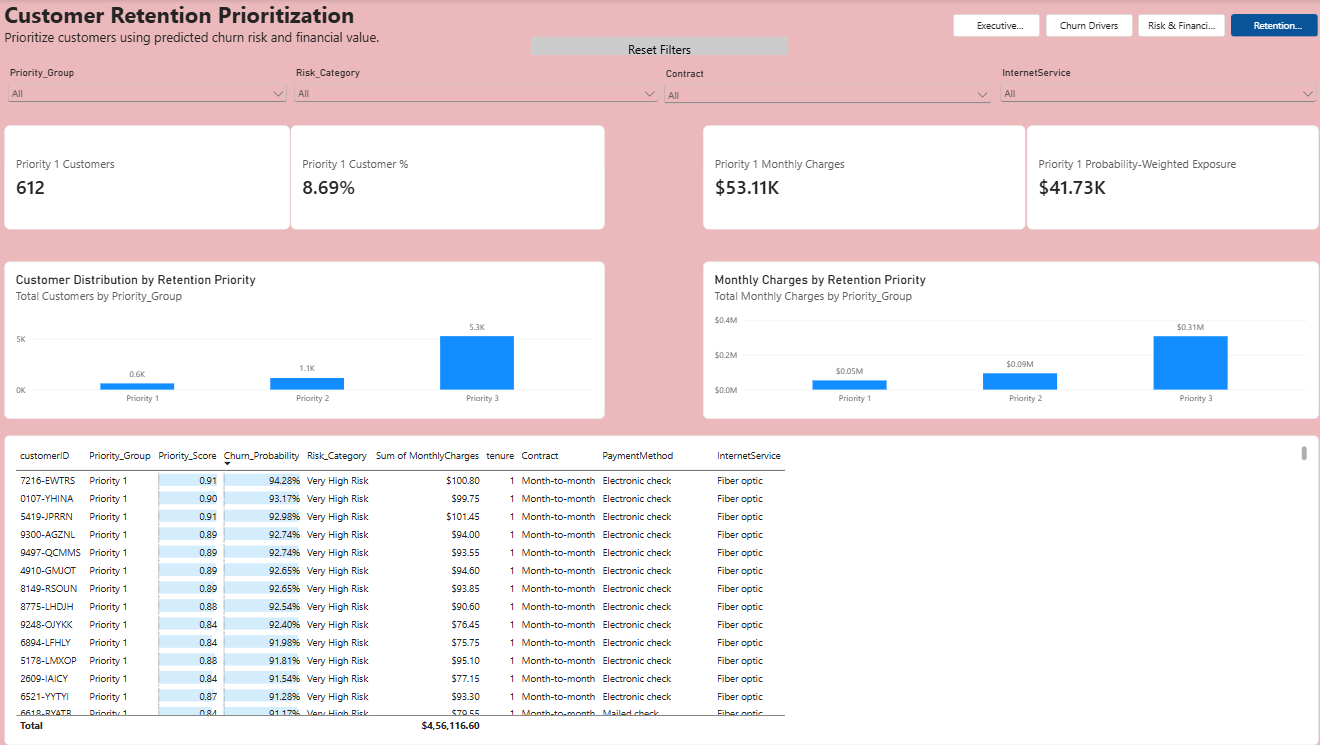

This screenshot's page, from the dashboard's own definition file:
{"tool":"powerbi","page":{"name":"Retention Prioritization","canvas":[1920,1080],"ordinal":3},"visuals":[{"type":"textbox","box":[9.3,0,1909.8,196.1],"z":0},{"type":"cardVisual","fields":{"Data":["Customer_Churn.Priority 1 Customers"]},"box":[9.5,183.4,414.2,151.8],"z":1000},{"type":"cardVisual","fields":{"Data":["Customer_Churn.Priority 1 Customer %"]},"box":[423.7,183.4,455.3,151.8],"z":2000},{"type":"cardVisual","fields":{"Data":["Customer_Churn.Priority 1 Monthly Charges"]},"box":[1021.4,183.4,468,151.8],"z":3000},{"type":"cardVisual","fields":{"Data":["Customer_Churn.Priority 1 Probability-Weighted Exposure"]},"box":[1489.4,183.4,423.7,151.8],"z":4000},{"type":"clusteredColumnChart","title":"Customer Distribution by Retention Priority","fields":{"Category":["Customer_Churn.Priority_Group"],"Y":["Customer_Churn.Total Customers"]},"box":[9.5,379.5,869.6,227.7],"z":5000},{"type":"clusteredColumnChart","title":"Monthly Charges by Retention Priority","fields":{"Category":["Customer_Churn.Priority_Group"],"Y":["Customer_Churn.Total Monthly Charges"]},"box":[1021.4,379.5,891.7,227.7],"z":6000},{"type":"tableEx","fields":{"Values":["Customer_Churn.customerID","Customer_Churn.Priority_Group","Customer_Churn.Priority_Score","Customer_Churn.Churn_Probability","Customer_Churn.Risk_Category","Sum(Customer_Churn.MonthlyCharges)","Customer_Churn.tenure","Customer_Churn.Contract","Customer_Churn.PaymentMethod","Customer_Churn.InternetService"]},"box":[9.5,632.4,1903.6,449],"z":7000},{"type":"slicer","fields":{"Values":["Customer_Churn.Priority_Group"]},"box":[9.5,98,414.2,161.3],"z":7001},{"type":"slicer","fields":{"Values":["Customer_Churn.Risk_Category"]},"box":[423.7,98,537.6,161.3],"z":7002},{"type":"slicer","fields":{"Values":["Customer_Churn.Contract"]},"box":[960,99.6,483.8,161.3],"z":7003},{"type":"slicer","fields":{"Values":["Customer_Churn.InternetService"]},"box":[1445.1,98,468,142.3],"z":7004},{"type":"pageNavigator","box":[1383.3,22.1,528.4,33.2],"z":7005},{"type":"actionButton","box":[770.5,55,373.5,27.5],"z":7006}]}

Visuals, with their boxes in screenshot pixels (x1, y1, x2, y2), scaled from the page's 1920x1080 canvas onto the 1320x745 screenshot:
textbox: x1=6, y1=0, x2=1319, y2=135
cardVisual - Customer_Churn.Priority 1 Customers: x1=7, y1=127, x2=291, y2=231
cardVisual - Customer_Churn.Priority 1 Customer %: x1=291, y1=127, x2=604, y2=231
cardVisual - Customer_Churn.Priority 1 Monthly Charges: x1=702, y1=127, x2=1024, y2=231
cardVisual - Customer_Churn.Priority 1 Probability-Weighted Exposure: x1=1024, y1=127, x2=1315, y2=231
"Customer Distribution by Retention Priority" clusteredColumnChart: x1=7, y1=262, x2=604, y2=419
"Monthly Charges by Retention Priority" clusteredColumnChart: x1=702, y1=262, x2=1315, y2=419
tableEx - Customer_Churn.customerID x Customer_Churn.Priority_Group: x1=7, y1=436, x2=1315, y2=744
slicer - Customer_Churn.Priority_Group: x1=7, y1=68, x2=291, y2=179
slicer - Customer_Churn.Risk_Category: x1=291, y1=68, x2=661, y2=179
slicer - Customer_Churn.Contract: x1=660, y1=69, x2=993, y2=180
slicer - Customer_Churn.InternetService: x1=994, y1=68, x2=1315, y2=166
pageNavigator: x1=951, y1=15, x2=1314, y2=38
actionButton: x1=530, y1=38, x2=786, y2=57
